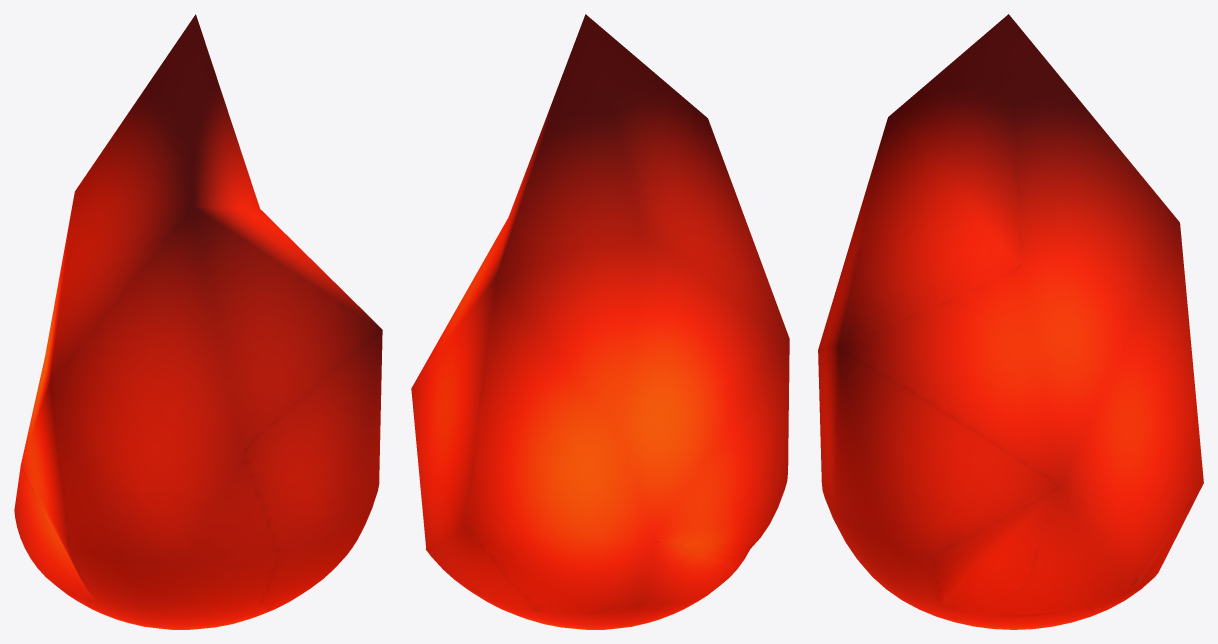
Rendered from fireFrame2.fbx.
3 views of the same model, side by side, from view 1: azimuth 30°, elevation 25°; view 2: azimuth 150°, elevation 25°; view 3: azimuth 270°, elevation 25° (orthographic).
Visible parts, largest first — view 1: fireFrame2_Baked; view 2: fireFrame2_Baked; view 3: fireFrame2_Baked.
Boxes of the visible parts, box(x1,y1,x2,y2) form: fireFrame2_Baked: box(14, 14, 382, 629); fireFrame2_Baked: box(411, 14, 789, 629); fireFrame2_Baked: box(818, 14, 1203, 629).
Bounding box in the file's own units: 147 × 257 × 150.
